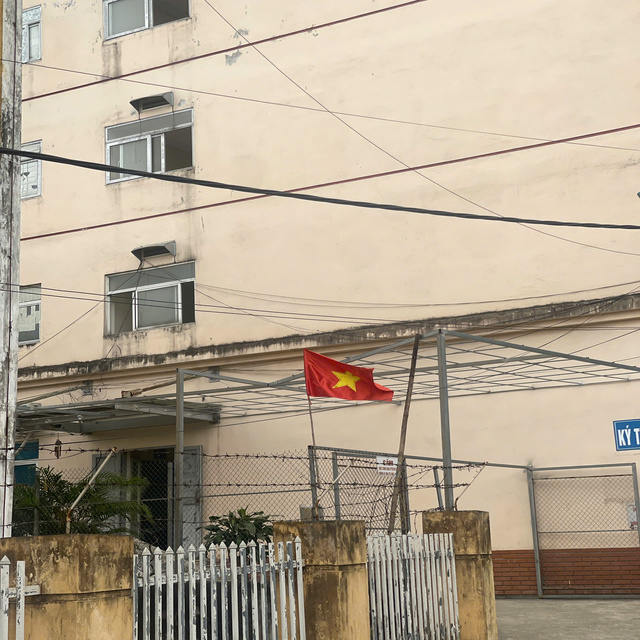laco: (288, 333, 401, 415)
